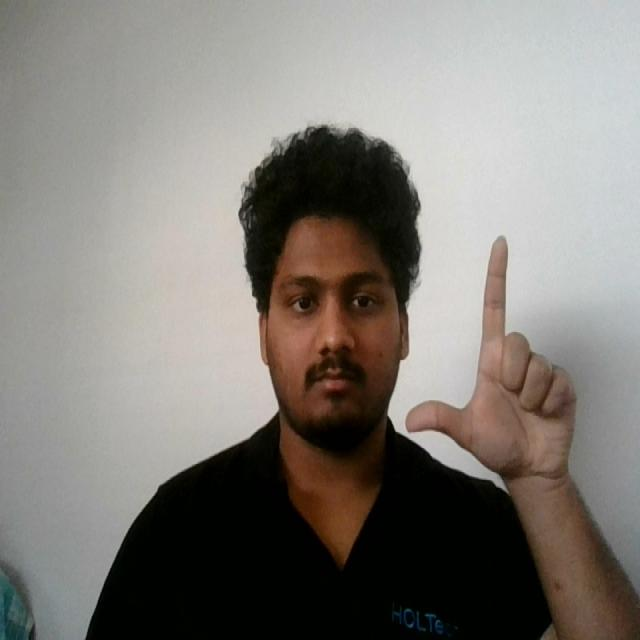IloveYou: (397, 232, 582, 496)
